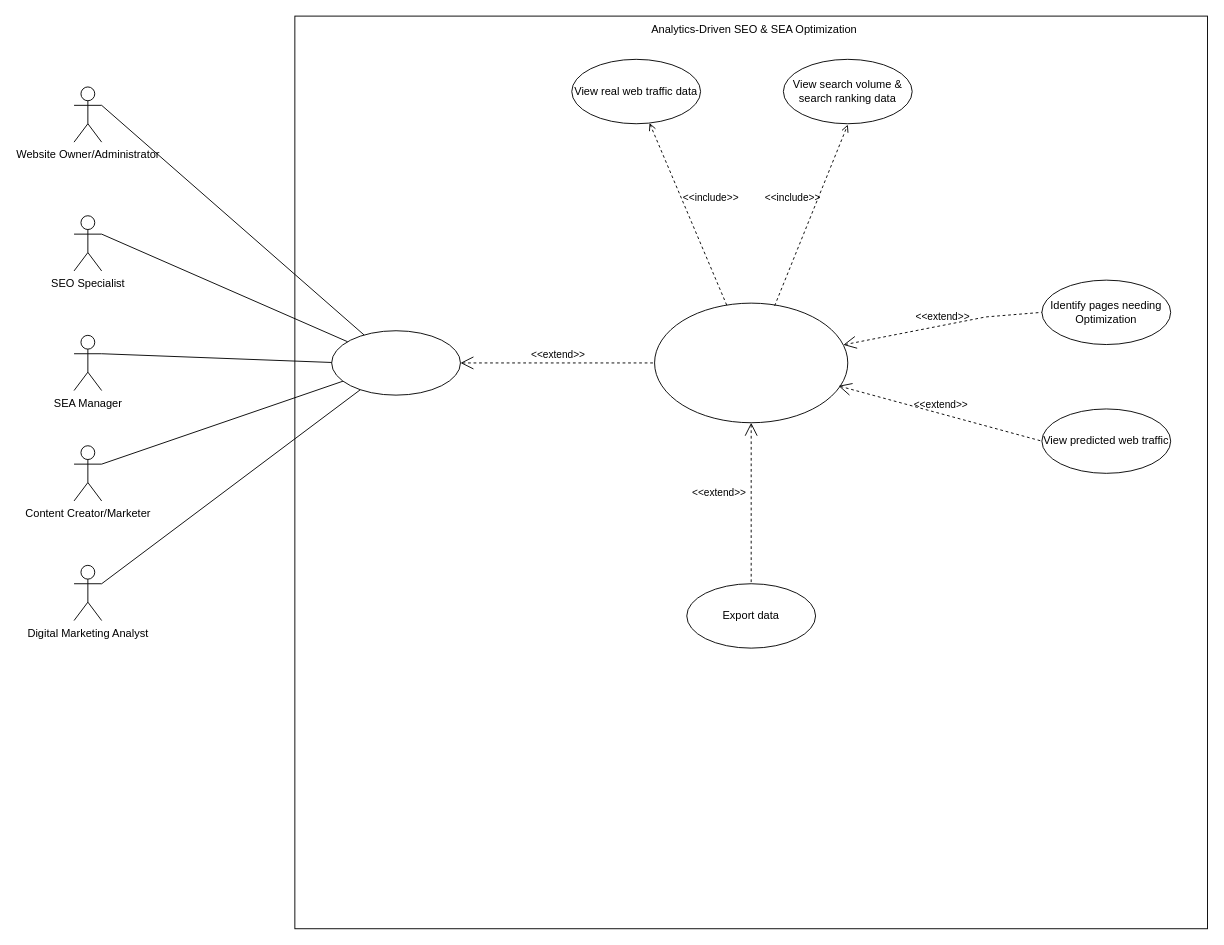
This 1224x945 diagram has some shape labels left out. The shapes that lost their labels are listed below. From the top down, each one's box as (x1, y1, x2, y2) in pixels, then its label:
(331, 330, 460, 395): View all webpages performance
(654, 302, 848, 423): View webpage performance
